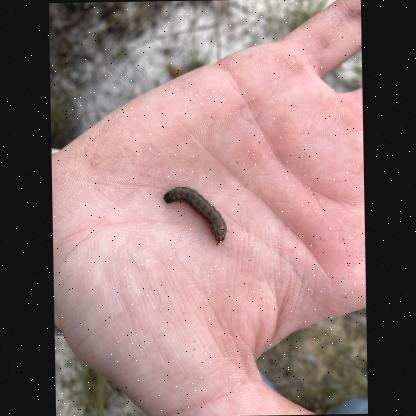Fall Armyworm Larvae: (162, 183, 228, 247)
